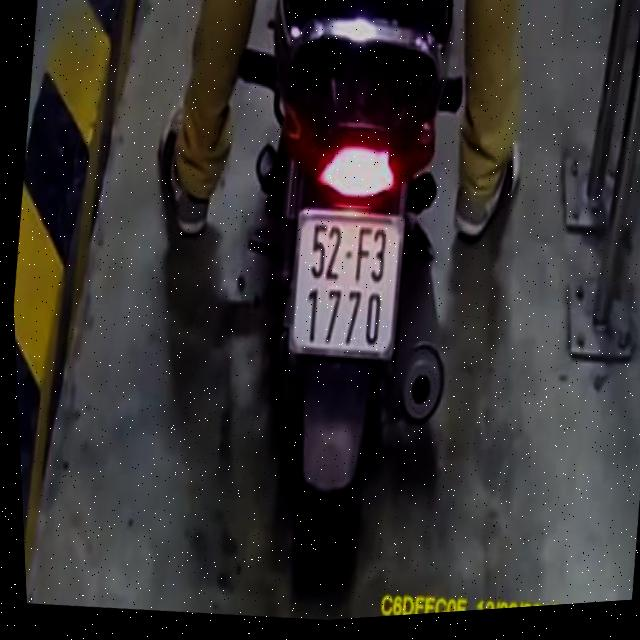motorcycle: (181, 0, 527, 598)
plate: (275, 197, 420, 374)
